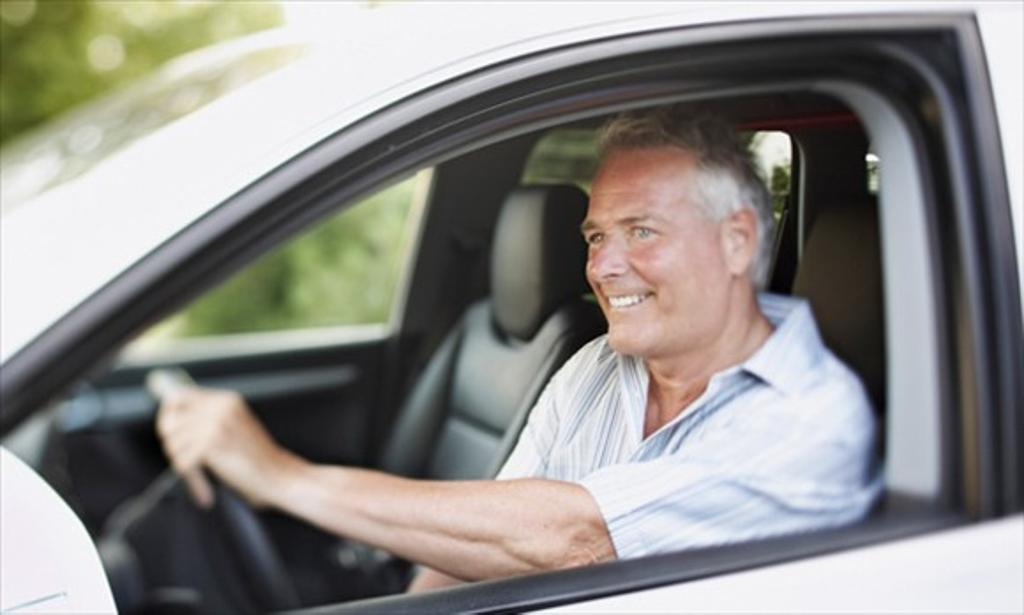face: (586, 146, 726, 350)
